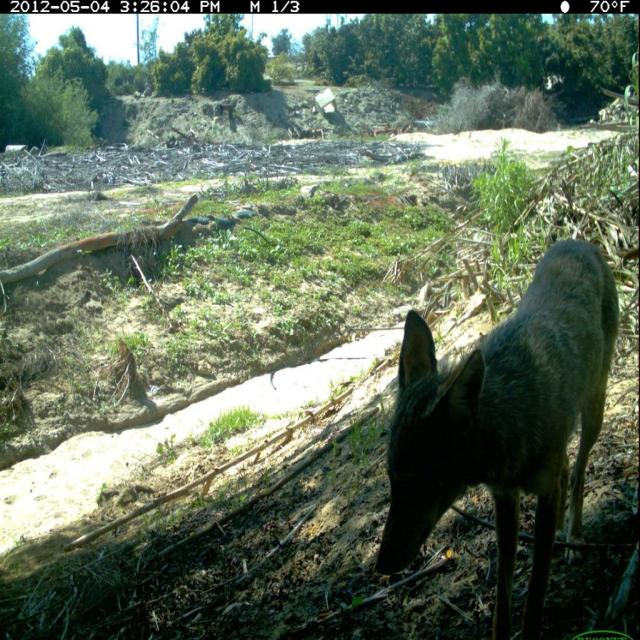coyote: (374, 236, 623, 640)
